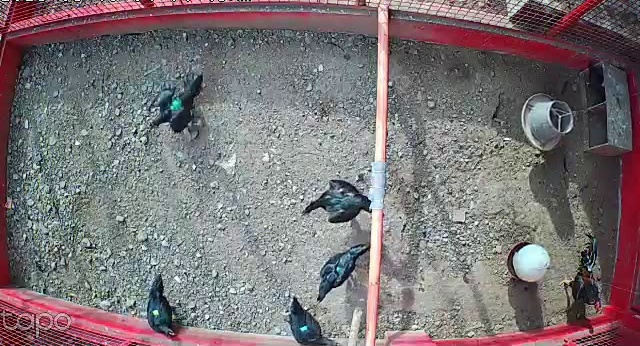Chicken: (313, 236, 375, 304), (145, 71, 206, 135), (295, 178, 372, 226), (143, 272, 181, 340), (283, 299, 330, 346)
Rooster: (557, 233, 608, 315)
Saddle_Color_Blue: (299, 325, 308, 331)
Saddle_Color_Yellow: (152, 310, 160, 316)
